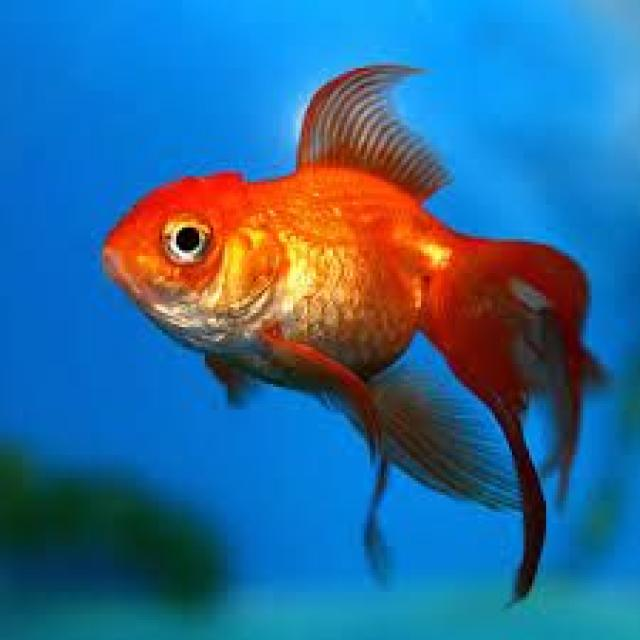Gold-Fish: (57, 48, 614, 564)
